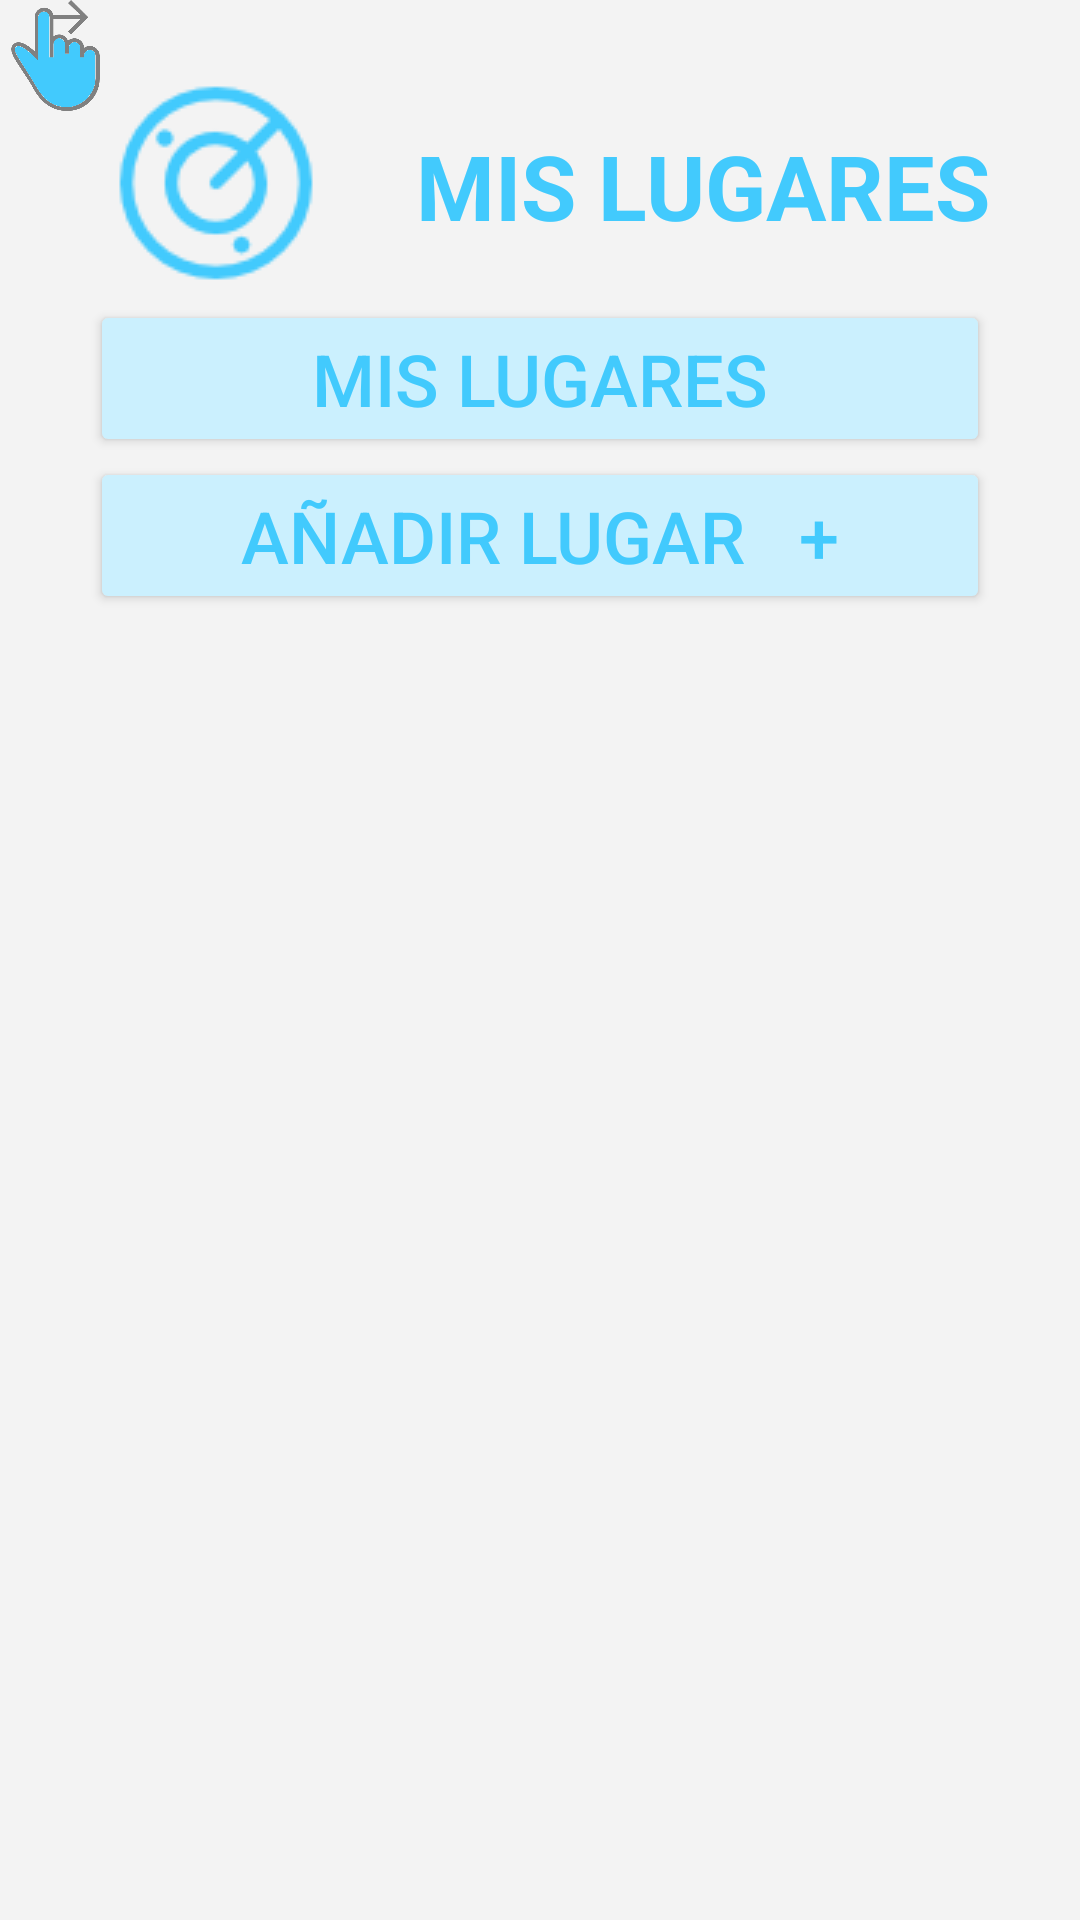

Icon bounding boxes for this 1080w x 1920h phone screenshot, format [x1,y1,x2,y2]:
finger mislugares: [11,0,100,111]
